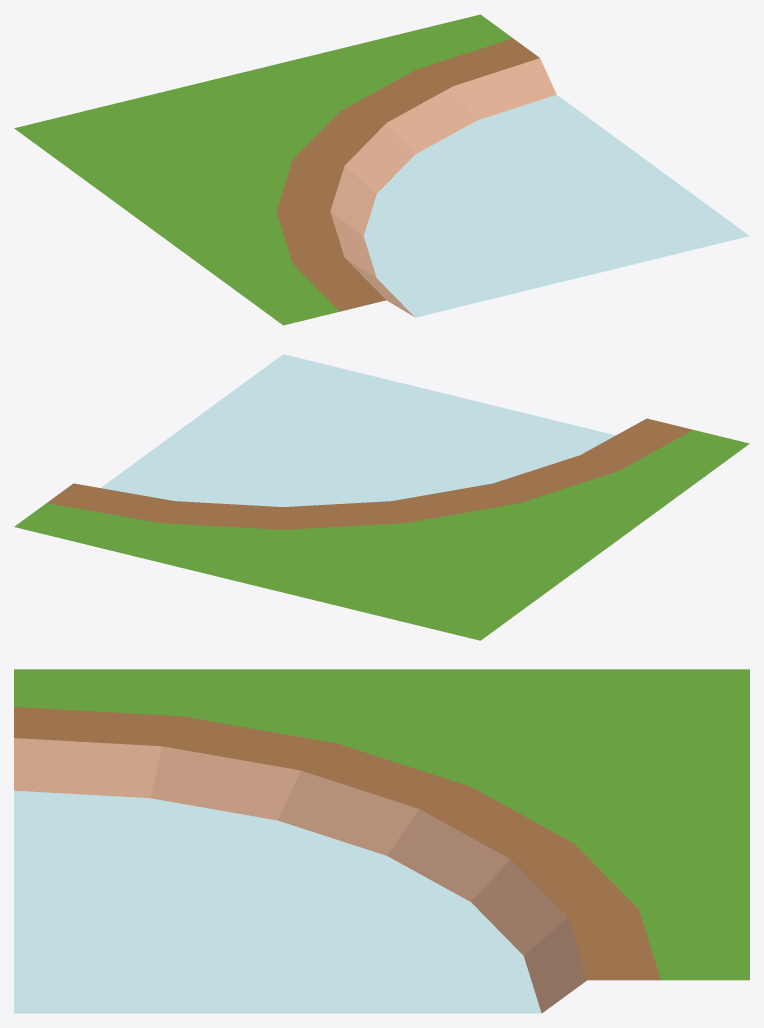
Rendered from ground_riverCorner.glb.
The picture shows the model from 3 angles, top to bottom: view 1: azimuth 30°, elevation 25°; view 2: azimuth 150°, elevation 25°; view 3: azimuth 270°, elevation 25°; orthographic projection. The views are drawn at different scales.
Parts seen in each view (by area): view 1: ground_riverCorner; view 2: ground_riverCorner; view 3: ground_riverCorner.
Boxes of the visible parts, x1,y1,x2,y2 form: ground_riverCorner: (14,14,749,325); ground_riverCorner: (14,354,749,640); ground_riverCorner: (14,669,749,1013).
Size of the model in its own units: 1 by 0.05 by 1.
